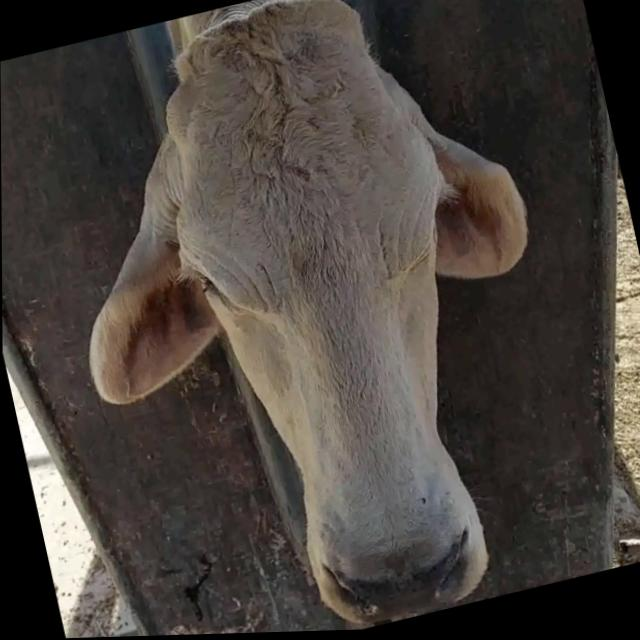cowFace: (125, 0, 527, 637)
